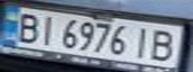6: (109, 21, 133, 57), (57, 17, 81, 50)
7: (90, 20, 112, 54)
9: (75, 19, 96, 52)
B: (145, 27, 181, 62), (9, 10, 45, 44)
I: (127, 25, 157, 60), (33, 13, 60, 46)
